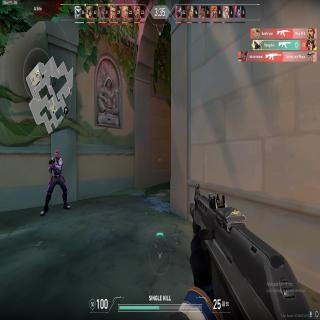ENEMY-BODY: (47, 147, 68, 210)
ENEMY-HEAD: (54, 150, 60, 161)
